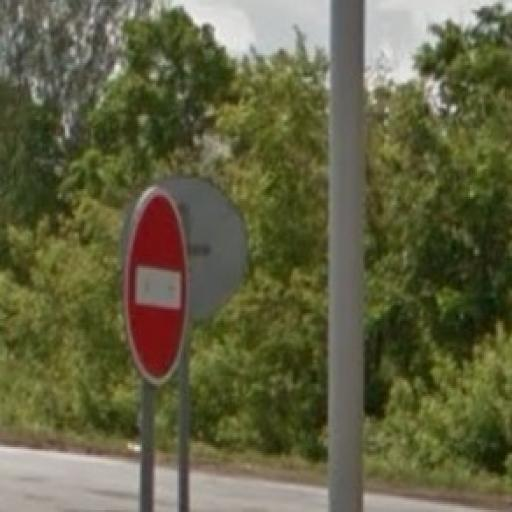traffic_sign: (124, 188, 192, 389)
